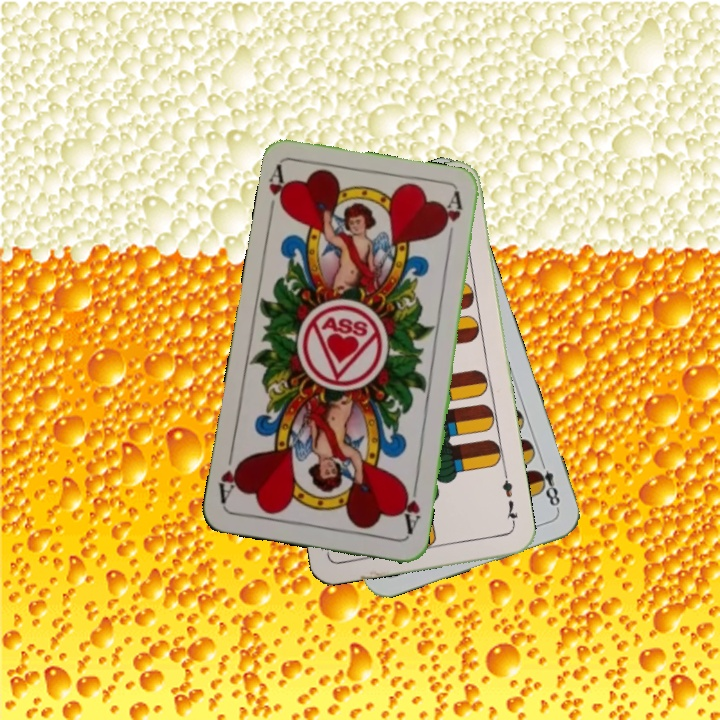E7: (498, 471, 521, 530)
E8: (530, 455, 563, 513)
HA: (265, 161, 293, 220), (397, 479, 423, 537)
